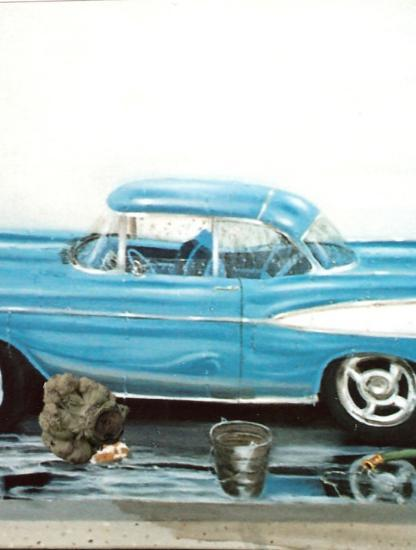Cauliflower: (33, 373, 127, 467)
